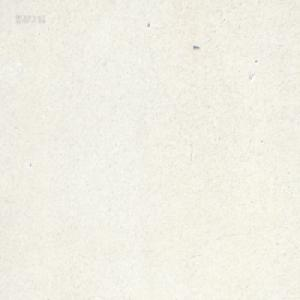Nail: (193, 43, 199, 49)
